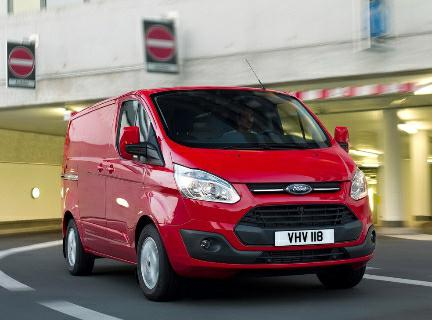福特-Transit: (54, 84, 384, 304)
